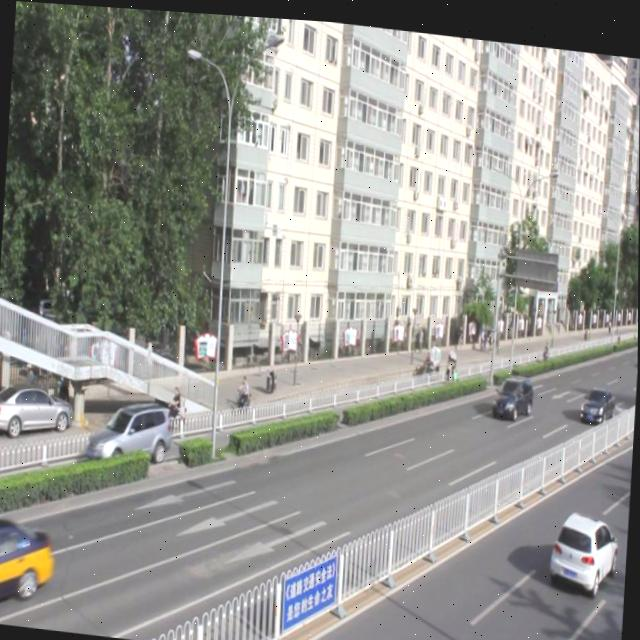car: (88, 386, 175, 475), (548, 498, 620, 587), (0, 506, 56, 611), (491, 365, 533, 415), (580, 375, 615, 415)
